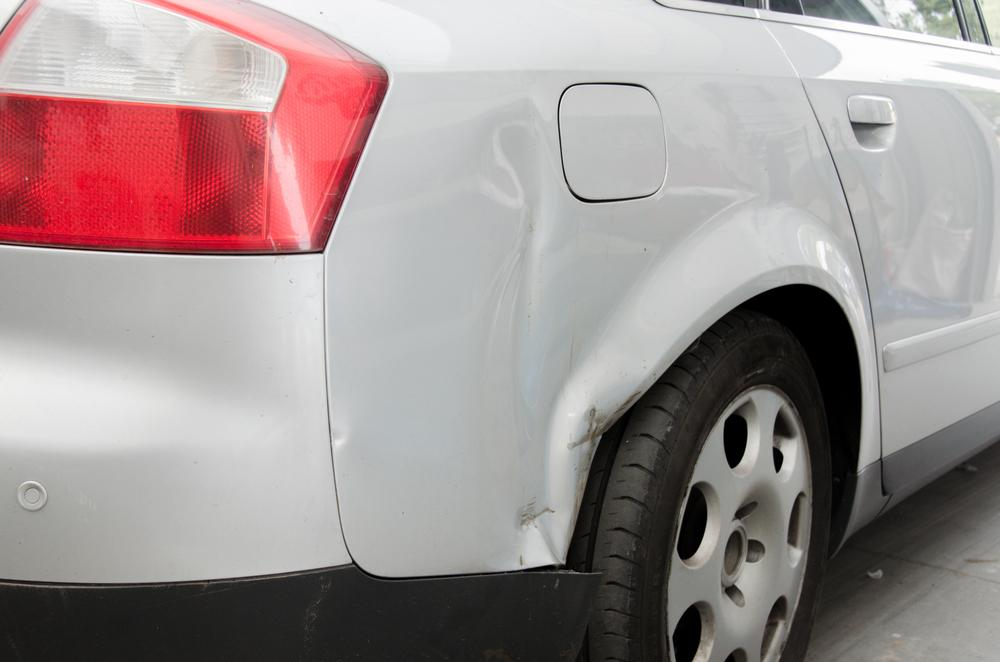dent: (471, 105, 583, 569), (881, 100, 990, 303)
